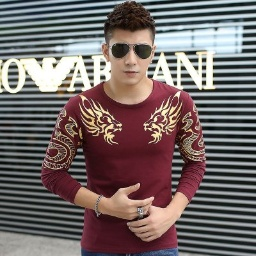face: (104, 2, 156, 86)
